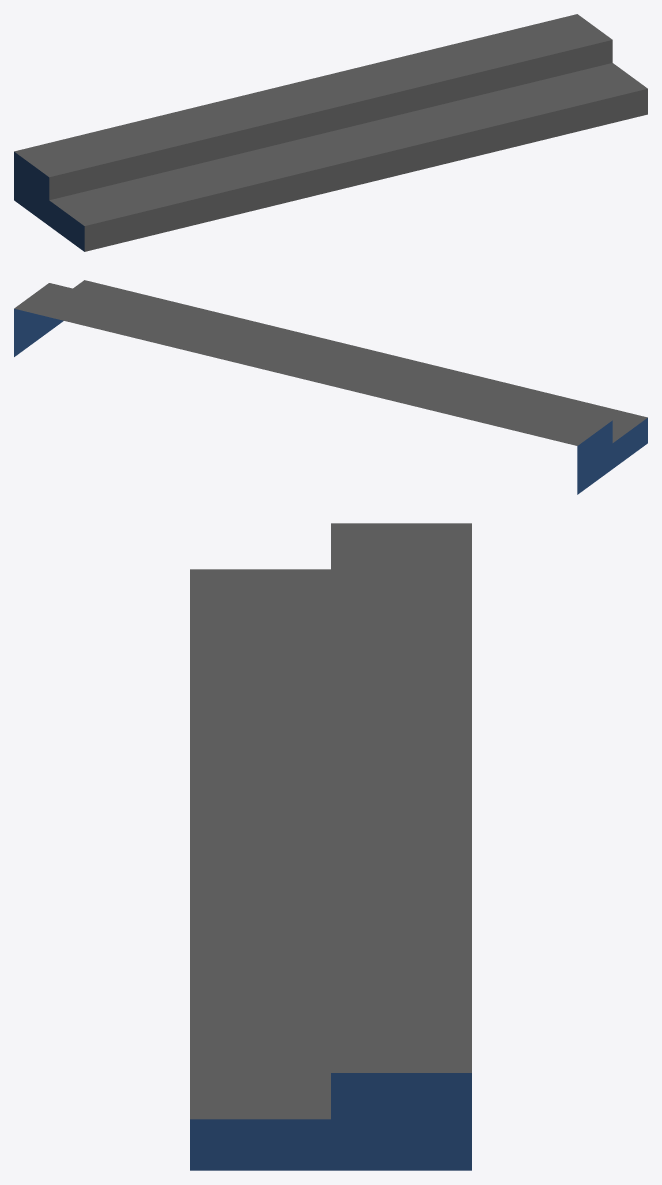
Rendered from p-44-entrance-stairs.fbx.
The picture shows the model from 3 angles, top to bottom: view 1: azimuth 30°, elevation 25°; view 2: azimuth 150°, elevation 25°; view 3: azimuth 270°, elevation 25°; orthographic projection. The views are drawn at different scales.
Parts seen in each view (by area): view 1: entrance-stairs; view 2: entrance-stairs; view 3: entrance-stairs.
Boxes of the visible parts, <box> form: entrance-stairs: <box>14,14,647,251</box>; entrance-stairs: <box>14,280,647,494</box>; entrance-stairs: <box>190,523,471,1170</box>.
Size of the model in its own units: 410 by 33.97 by 88.91.
